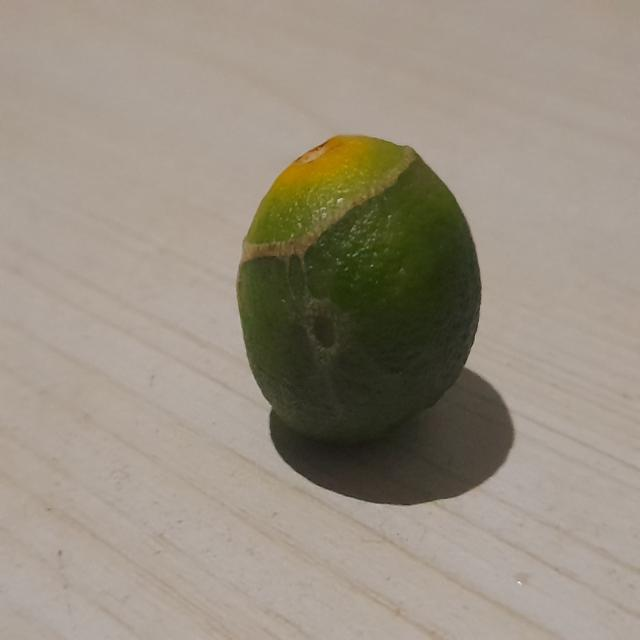thrips: (234, 130, 488, 438)
